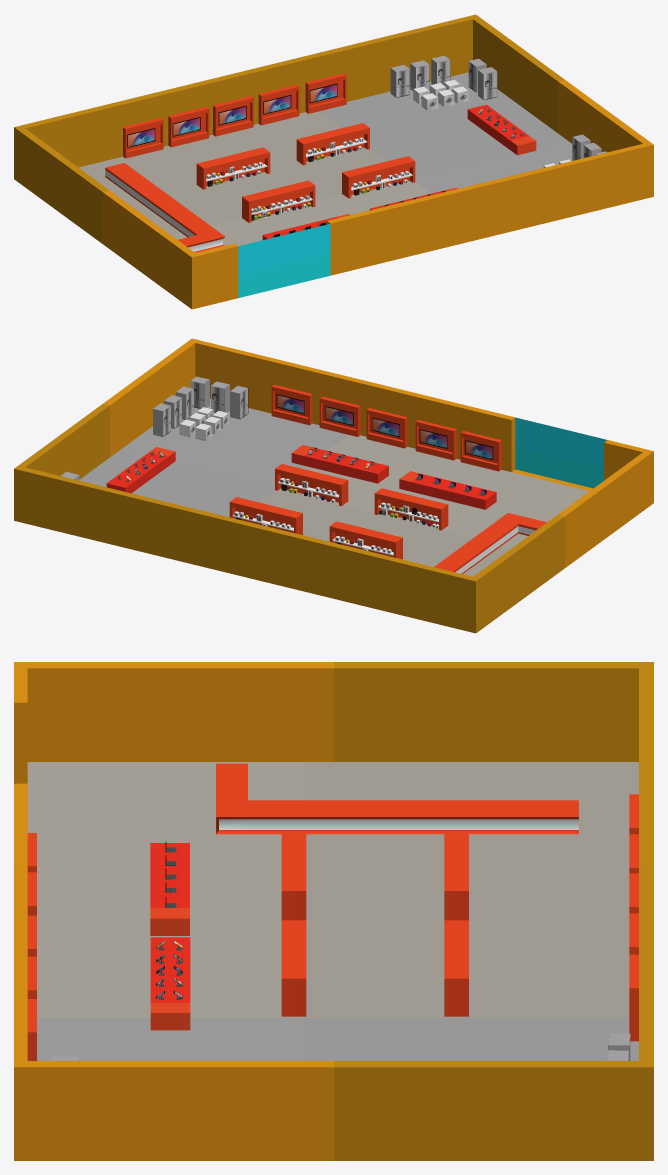
File: MobileStoreExperiment3.fbx
The picture shows the model from 3 angles, top to bottom: view 1: azimuth 30°, elevation 25°; view 2: azimuth 150°, elevation 25°; view 3: azimuth 270°, elevation 25°; orthographic projection. The views are drawn at different scales.
Visible parts, largest first — view 1: Floor, Counter, pCube94, pCube84, pCube80, pCube66, pCube88, Tv_Stand6, Tv_Stand8, Tv_Stand9, Tv_Stand7, Tv_Stand5 (+4 smaller); view 2: Floor, Counter, pCube139, pCube93, pCube94, pCube85, pCube67, pCube89, pCube81, Tv_Stand13, Tv_Stand14, Tv_Stand10 (+6 smaller); view 3: Floor, Counter, pCube93, pCube139, pCube84, pCube85, pCube89, pCube88, pCube80, pCube67, pCube66, pCube81 (+1 smaller).
Boxes of the visible parts, x1,y1,x2,y2 form: Floor: (14, 14, 653, 309); Counter: (105, 163, 225, 252); pCube94: (467, 104, 536, 155); pCube84: (345, 158, 415, 198); pCube80: (200, 150, 270, 189); pCube66: (245, 183, 315, 222); pCube88: (300, 125, 369, 165); Tv_Stand6: (168, 107, 209, 147); Tv_Stand8: (258, 85, 299, 125); Tv_Stand9: (305, 73, 346, 113); Tv_Stand7: (213, 96, 253, 136); Tv_Stand5: (123, 118, 163, 158); Floor: (14, 338, 653, 633); Counter: (434, 513, 546, 574); pCube139: (291, 445, 388, 483); pCube93: (399, 471, 496, 509); pCube94: (106, 447, 175, 493); pCube85: (275, 466, 344, 506); pCube67: (374, 490, 444, 530); pCube89: (229, 499, 299, 534); pCube81: (329, 524, 399, 558); Tv_Stand13: (319, 396, 360, 436); Tv_Stand14: (271, 384, 312, 425); Tv_Stand10: (460, 431, 501, 471); Floor: (14, 662, 653, 1160); Counter: (216, 763, 578, 834); pCube93: (150, 843, 189, 935); pCube139: (150, 937, 190, 1030); pCube84: (281, 920, 293, 1016); pCube85: (294, 920, 306, 1016); pCube89: (456, 920, 468, 1016); pCube88: (444, 920, 456, 1016); pCube80: (444, 832, 456, 920); pCube67: (294, 832, 306, 920); pCube66: (281, 832, 293, 920); pCube81: (456, 832, 468, 920).
Size of the model in its own units: 44.58 by 4.81 by 29.76.
